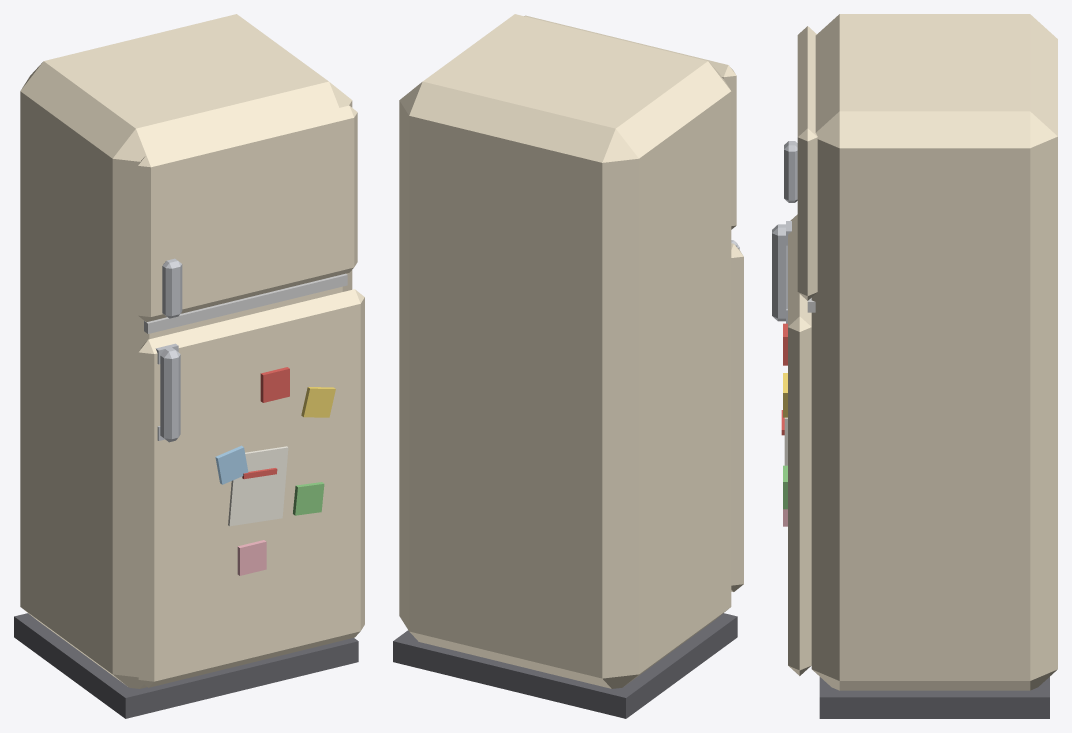
The model's file is prop_fridge_01.glb.
3 renders of one model, left to right at view 1: azimuth 30°, elevation 25°; view 2: azimuth 150°, elevation 25°; view 3: azimuth 270°, elevation 25°, orthographic. The views are drawn at different scales.
Visible parts, largest first — view 1: prop_fridge_01_body, prop_fridge_01_door; view 2: prop_fridge_01_body, prop_fridge_01_door; view 3: prop_fridge_01_body, prop_fridge_01_door.
Boxes of the visible parts, x1,y1,x2,y2 form: prop_fridge_01_body: [14, 14, 358, 718]; prop_fridge_01_door: [138, 289, 364, 687]; prop_fridge_01_body: [393, 14, 737, 718]; prop_fridge_01_door: [731, 240, 743, 591]; prop_fridge_01_body: [784, 14, 1057, 718]; prop_fridge_01_door: [772, 214, 811, 675].
Size of the model in its own units: 0.72 by 1.66 by 0.72.
